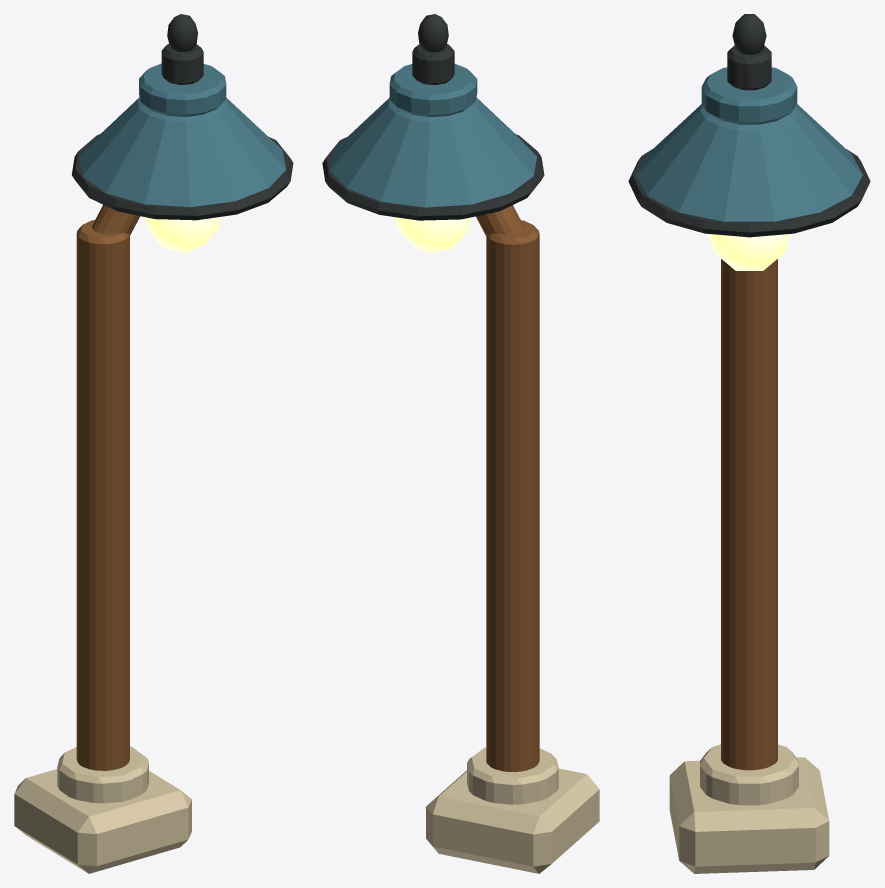
Rendered from EnamelGardenLamp.glb.
The picture shows the model from 3 angles, left to right: view 1: azimuth 30°, elevation 25°; view 2: azimuth 150°, elevation 25°; view 3: azimuth 270°, elevation 25°; orthographic projection. The views are drawn at different scales.
Parts seen in each view (by area): view 1: EnamelGardenLamp_WoodPost, EnamelGardenLamp_EnamelShade, EnamelGardenLamp_LimestoneFoot, EnamelGardenLamp_MetalTrim, EnamelGardenLamp_Bulb; view 2: EnamelGardenLamp_WoodPost, EnamelGardenLamp_EnamelShade, EnamelGardenLamp_LimestoneFoot, EnamelGardenLamp_MetalTrim, EnamelGardenLamp_Bulb; view 3: EnamelGardenLamp_WoodPost, EnamelGardenLamp_EnamelShade, EnamelGardenLamp_LimestoneFoot, EnamelGardenLamp_MetalTrim, EnamelGardenLamp_Bulb.
Boxes of the visible parts, <box> form: EnamelGardenLamp_WoodPost: <box>76,204,140,770</box>; EnamelGardenLamp_EnamelShade: <box>79,63,285,207</box>; EnamelGardenLamp_LimestoneFoot: <box>14,746,191,873</box>; EnamelGardenLamp_MetalTrim: <box>72,14,293,220</box>; EnamelGardenLamp_Bulb: <box>144,217,220,252</box>; EnamelGardenLamp_WoodPost: <box>476,205,539,771</box>; EnamelGardenLamp_EnamelShade: <box>329,64,536,207</box>; EnamelGardenLamp_LimestoneFoot: <box>426,747,599,873</box>; EnamelGardenLamp_MetalTrim: <box>322,14,544,220</box>; EnamelGardenLamp_Bulb: <box>395,217,471,253</box>; EnamelGardenLamp_WoodPost: <box>721,259,777,770</box>; EnamelGardenLamp_EnamelShade: <box>636,67,862,221</box>; EnamelGardenLamp_LimestoneFoot: <box>669,744,829,873</box>; EnamelGardenLamp_MetalTrim: <box>628,14,870,237</box>; EnamelGardenLamp_Bulb: <box>708,234,790,270</box>.
Bounding box in the file's own units: 0.4387 × 1.41 × 0.354.
